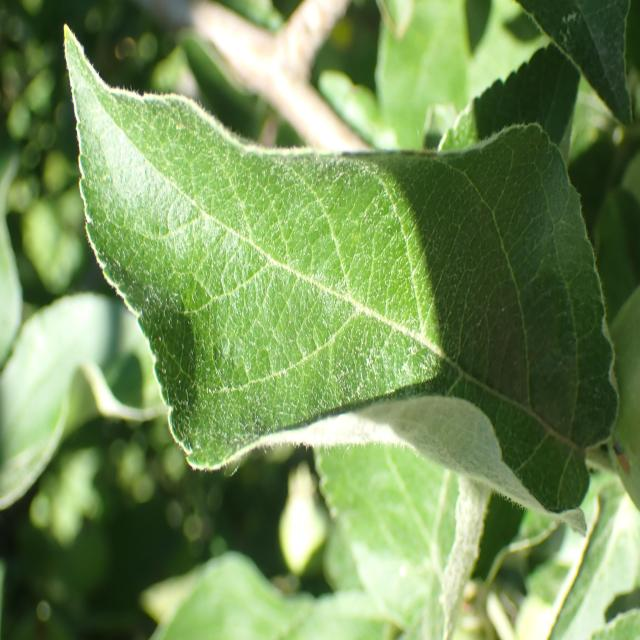healthy: (63, 26, 622, 542), (516, 1, 634, 128)
